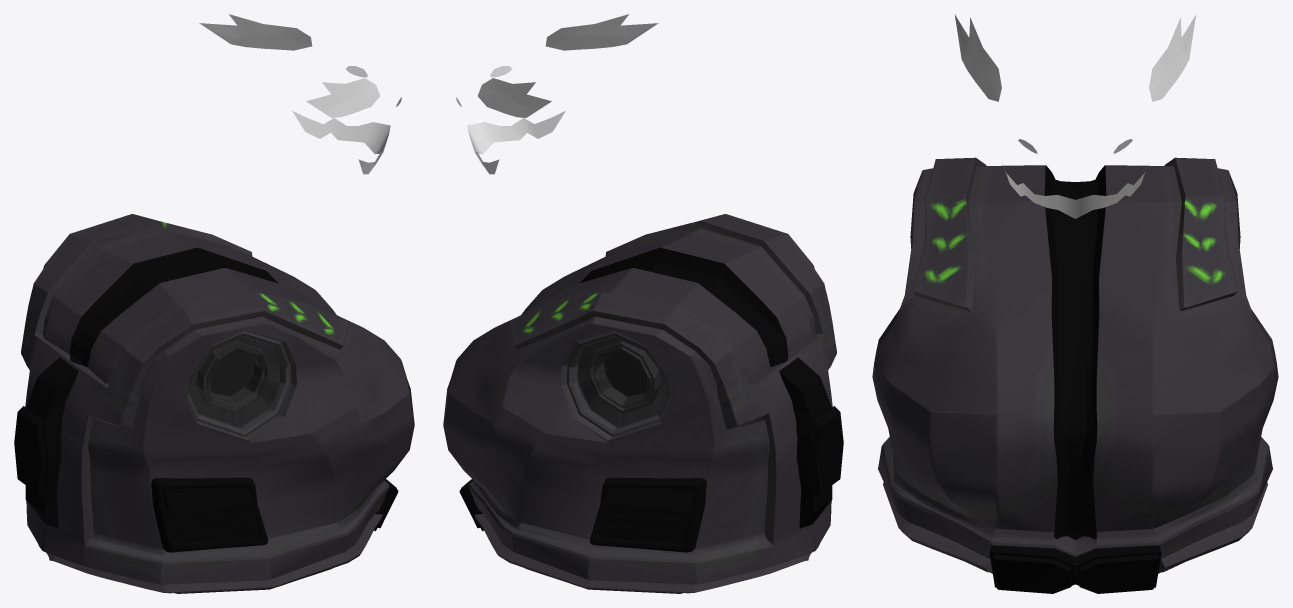
The model's file is AS_DiagF_MOuthOU.fbx.
3 renders of one model, left to right at view 1: azimuth 30°, elevation 25°; view 2: azimuth 150°, elevation 25°; view 3: azimuth 270°, elevation 25°, orthographic. The views are drawn at different scales.
Visible parts, largest first — view 1: Chest_armor, Face; view 2: Chest_armor, Face; view 3: Chest_armor, Face.
Part boxes in pixels (x1,y1,x2,y2): Chest_armor: [14, 214, 414, 593]; Face: [199, 14, 401, 174]; Chest_armor: [443, 214, 843, 593]; Face: [456, 14, 658, 174]; Chest_armor: [872, 157, 1278, 593]; Face: [955, 15, 1195, 218].
Size of the model in its own units: 31.23 by 26.77 by 38.9.
